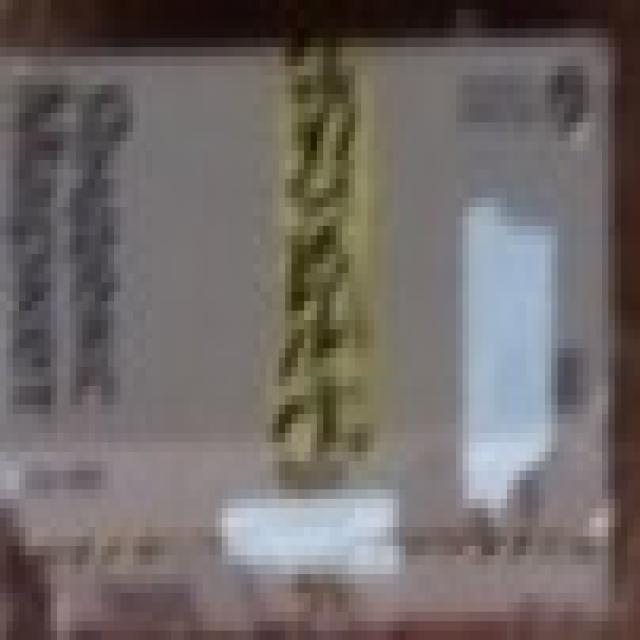boxes: (2, 32, 614, 616)
